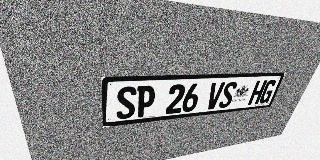2: (165, 84, 186, 114)
6: (181, 83, 202, 112)
G: (258, 80, 278, 104)
H: (247, 80, 268, 105)
P: (135, 85, 156, 118)
S: (116, 86, 137, 120), (218, 81, 238, 108)
V: (205, 82, 225, 110)
